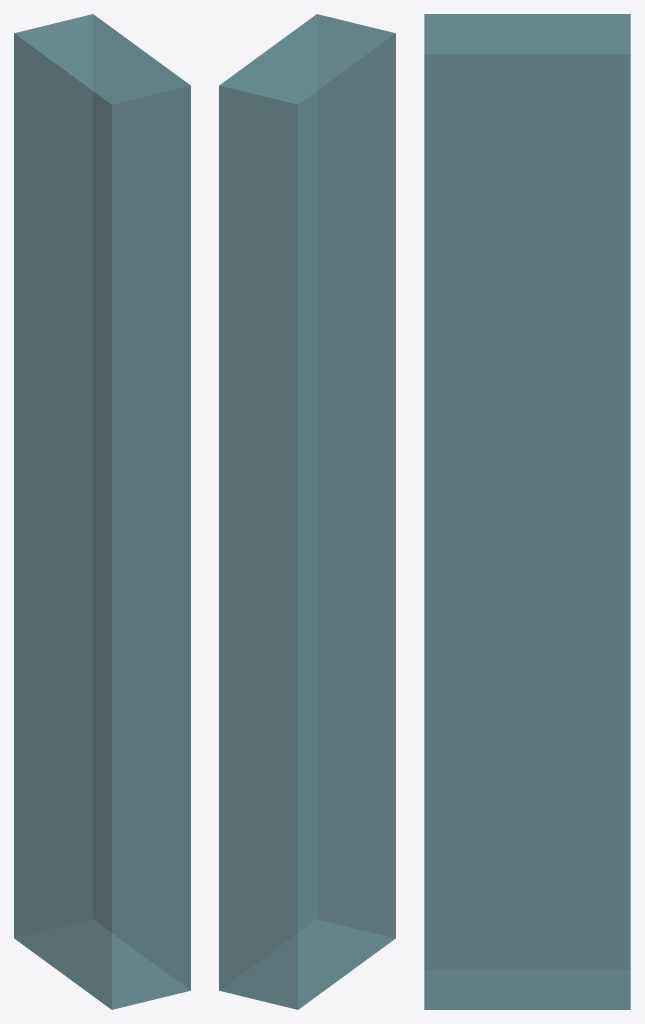
3 views of the same model, side by side, from view 1: azimuth 30°, elevation 25°; view 2: azimuth 150°, elevation 25°; view 3: azimuth 270°, elevation 25° (orthographic). The views are drawn at different scales.
Visible parts, largest first — view 1: A-GF-18E0; view 2: A-GF-18E0; view 3: A-GF-18E0.
Boxes of the visible parts, box(x1,y1,x2,y2) form: A-GF-18E0: box(14, 14, 190, 1009); A-GF-18E0: box(219, 14, 395, 1009); A-GF-18E0: box(424, 14, 630, 1009).
Bounding box in the file's own units: 0.21 × 2.3 × 0.45.
